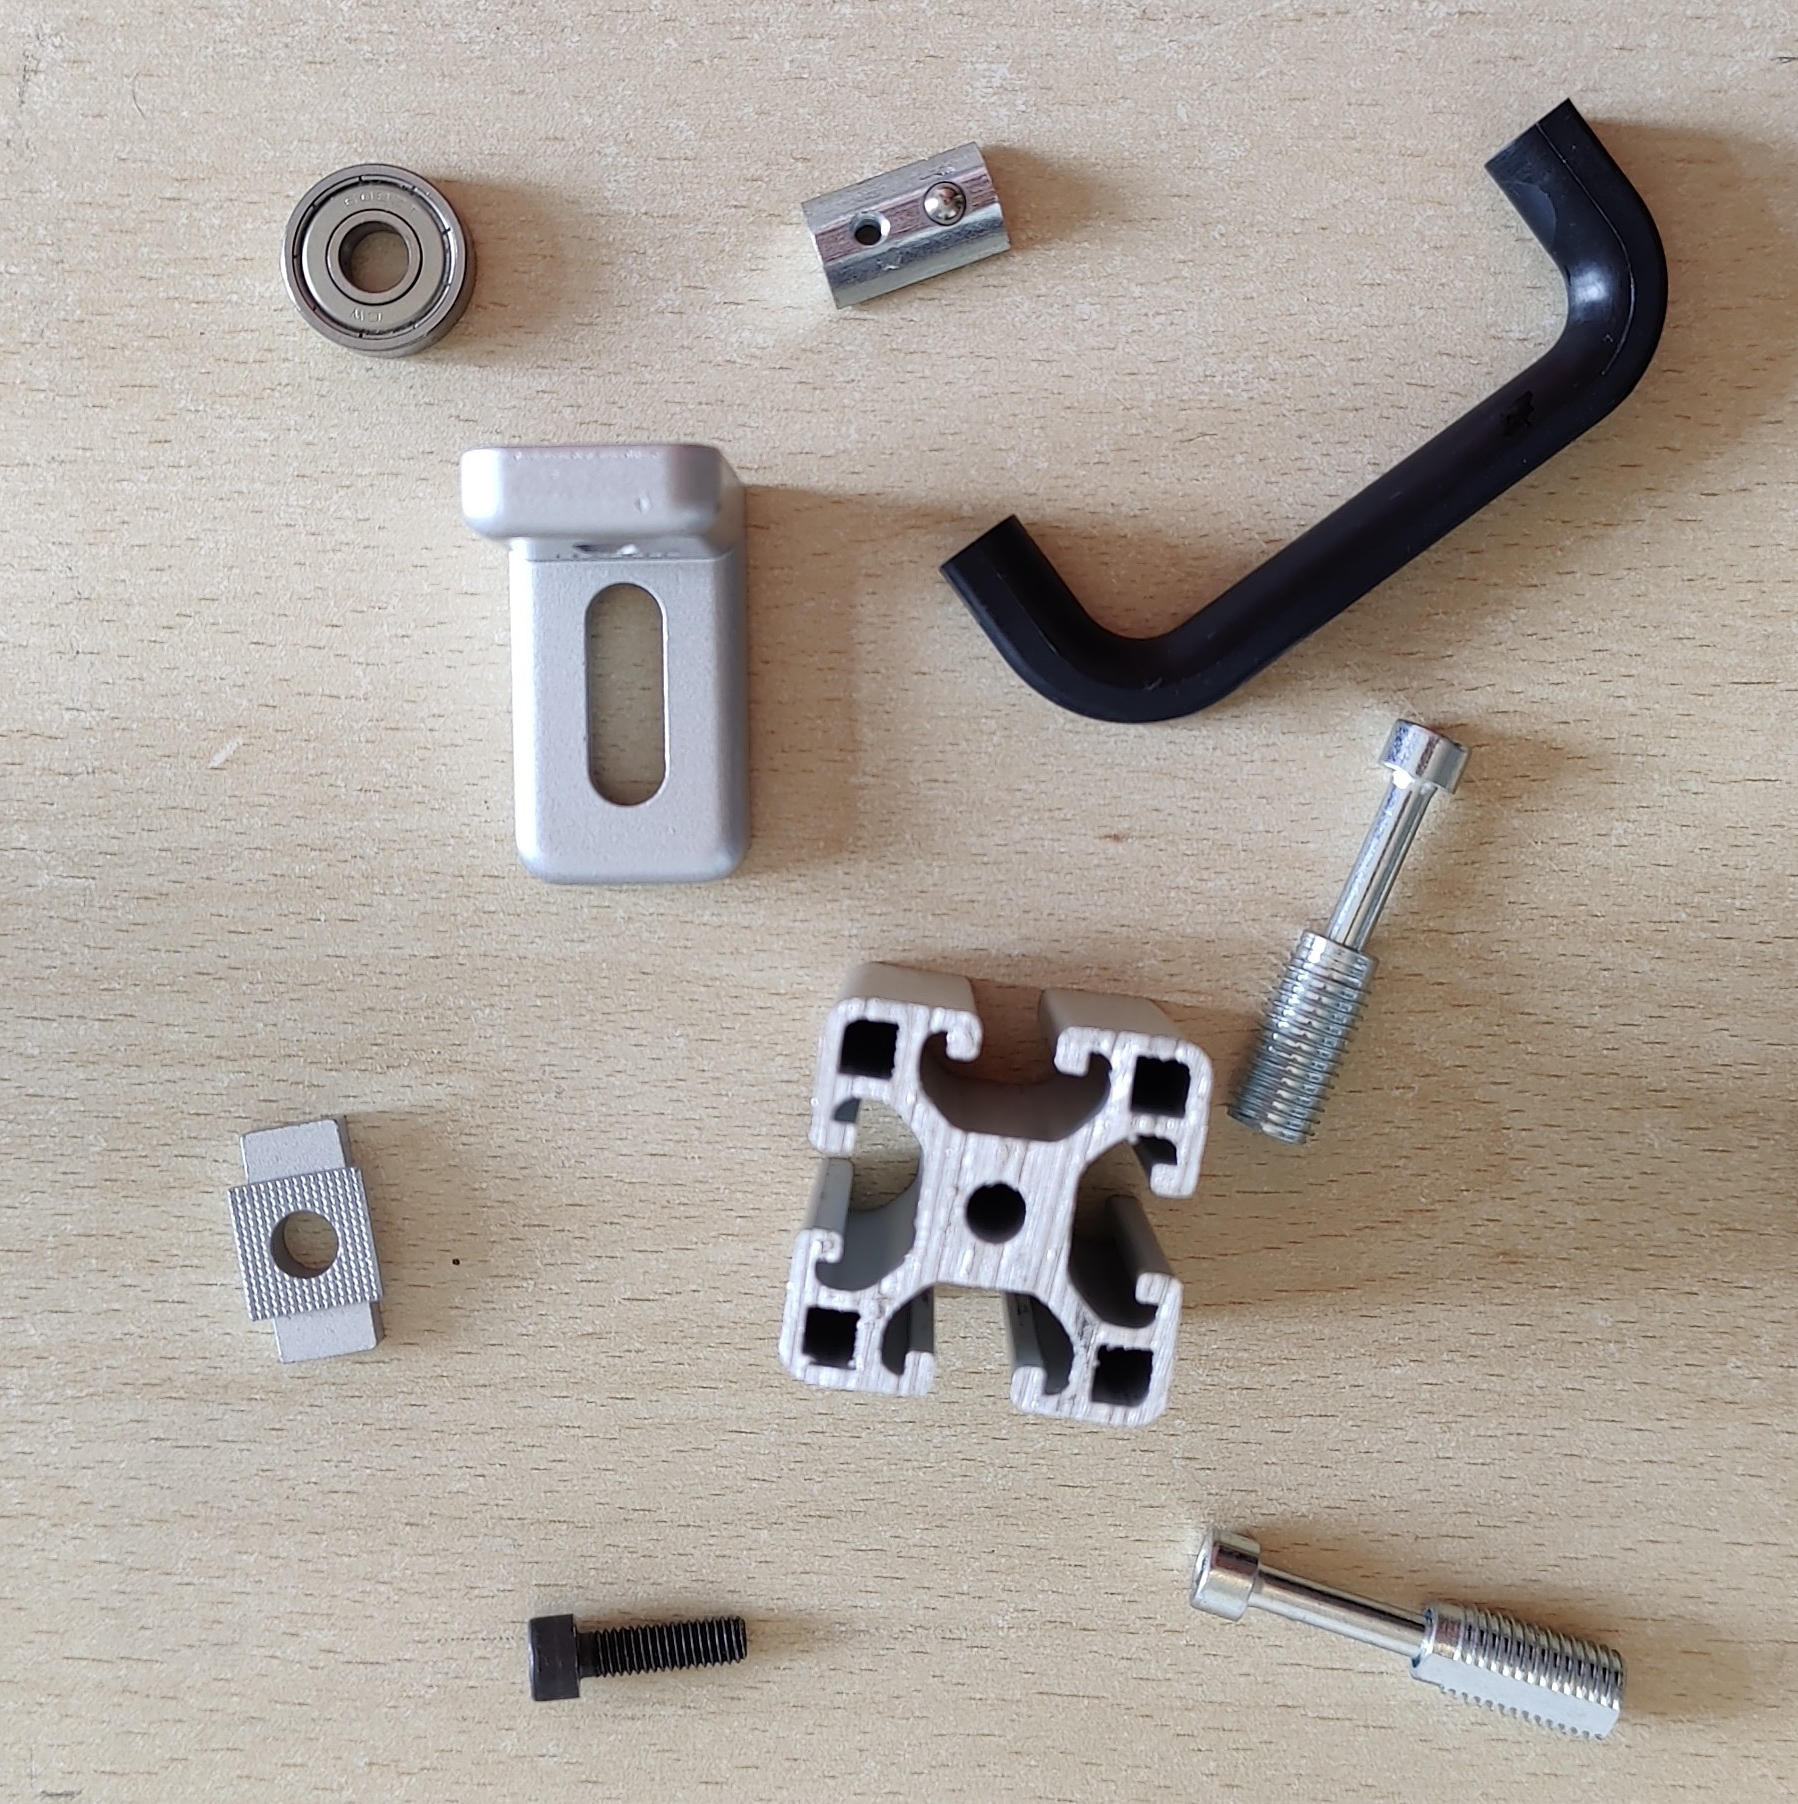Aluminium Extension: (776, 960, 1217, 1430)
Ball Bearing: (280, 161, 481, 360)
Multiwinkel: (456, 441, 756, 890)
Pull Handle: (935, 94, 1673, 726)
Shoulder Socket Head Cap Screw: (1225, 714, 1474, 1151), (1185, 1523, 1628, 1745)
Socket Head Cap Screw: (522, 1610, 752, 1705)
T Nut Square: (221, 1108, 390, 1366)
T Spring Nut: (799, 140, 1014, 313)
